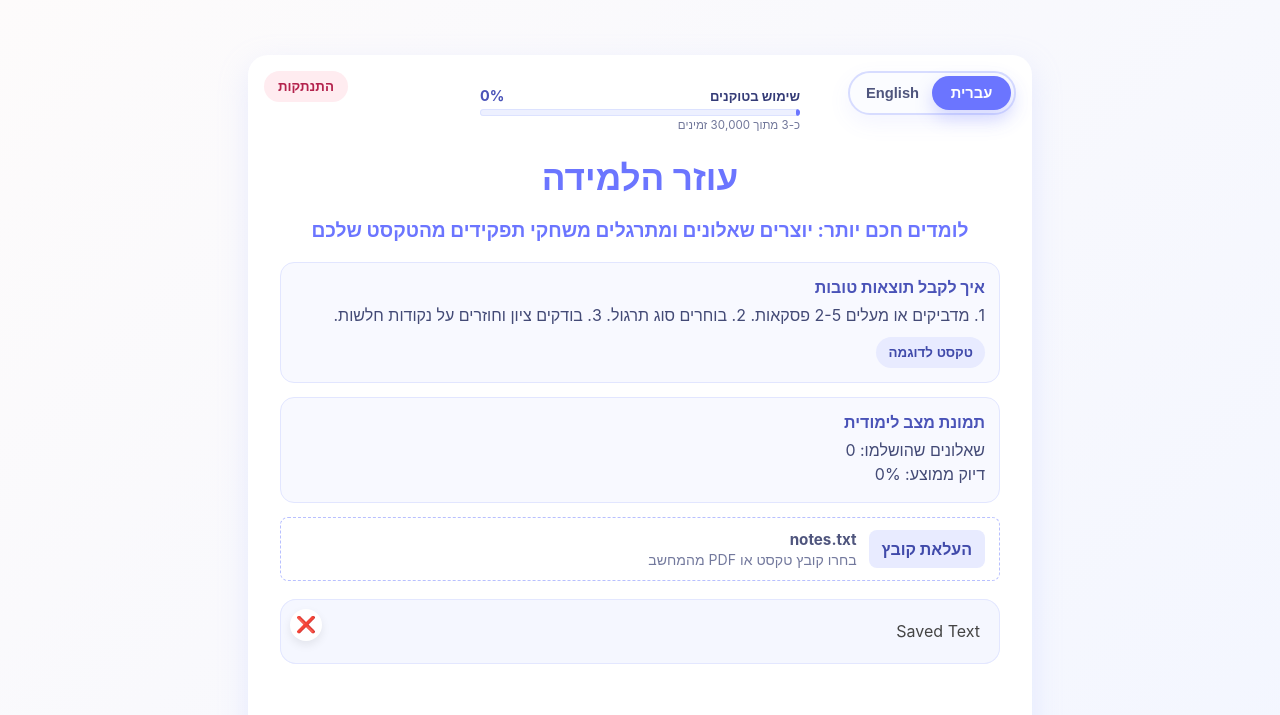
Test: HomePage Component › handleClearText clears text and localStorage
Click the button "❌": (306, 625) [290, 609, 322, 641]
(page scrolled)
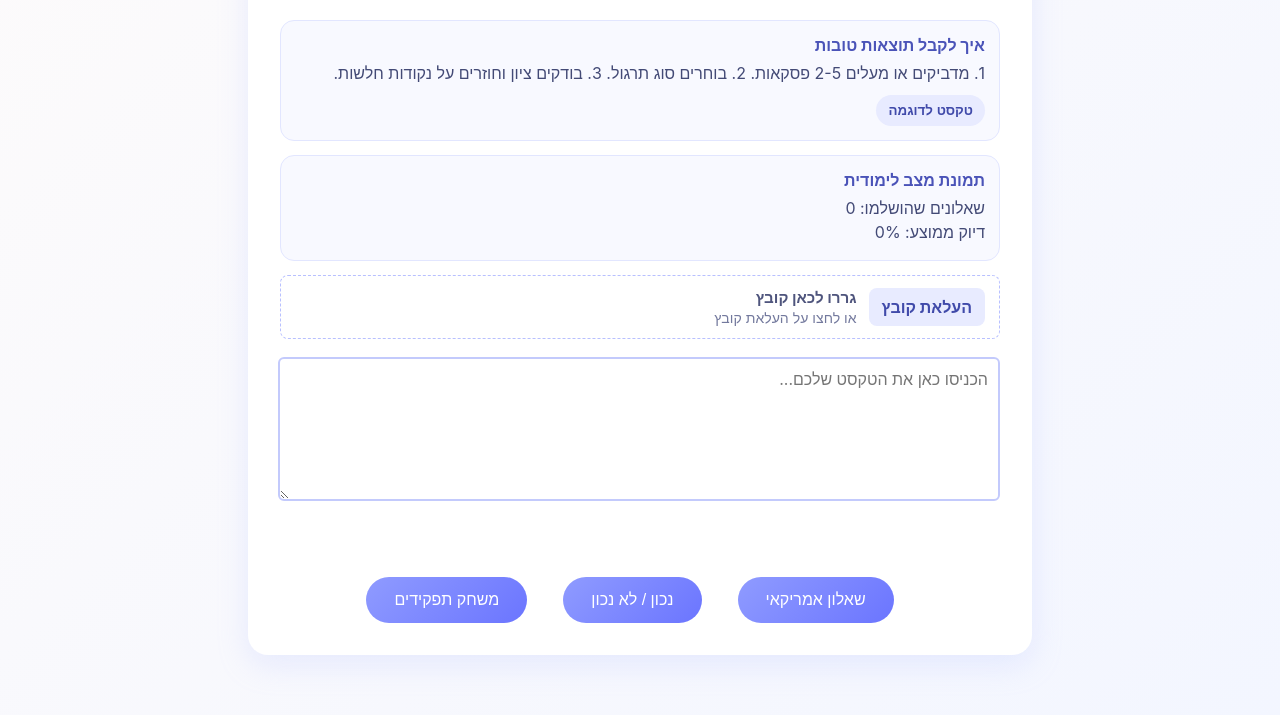
Now the text box is shown, box [278, 357, 1000, 501]
